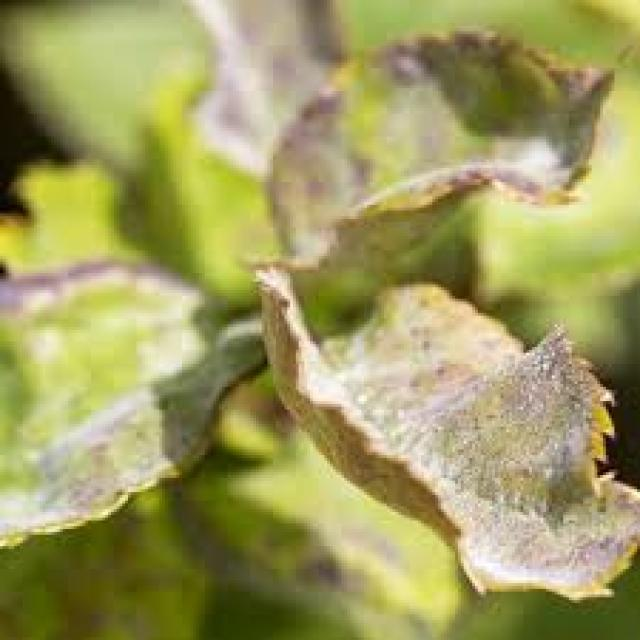powdery-mildew: (329, 344, 547, 476), (0, 414, 196, 534), (488, 123, 576, 200)
